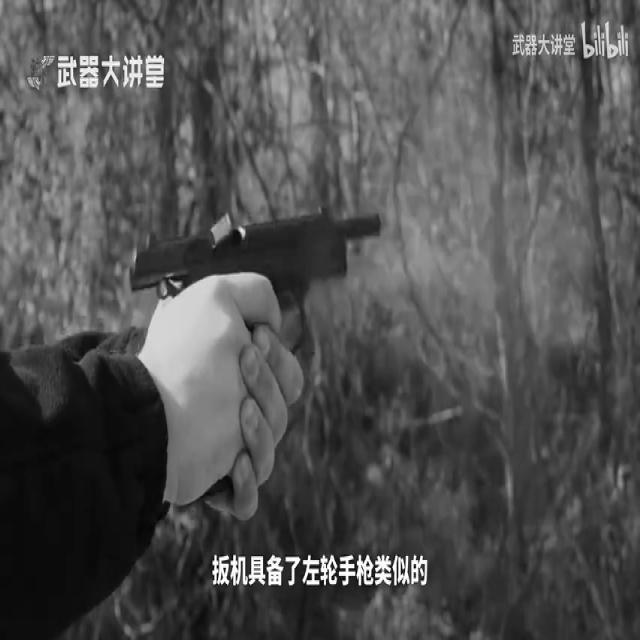Hand-Gun: (129, 196, 381, 390)
